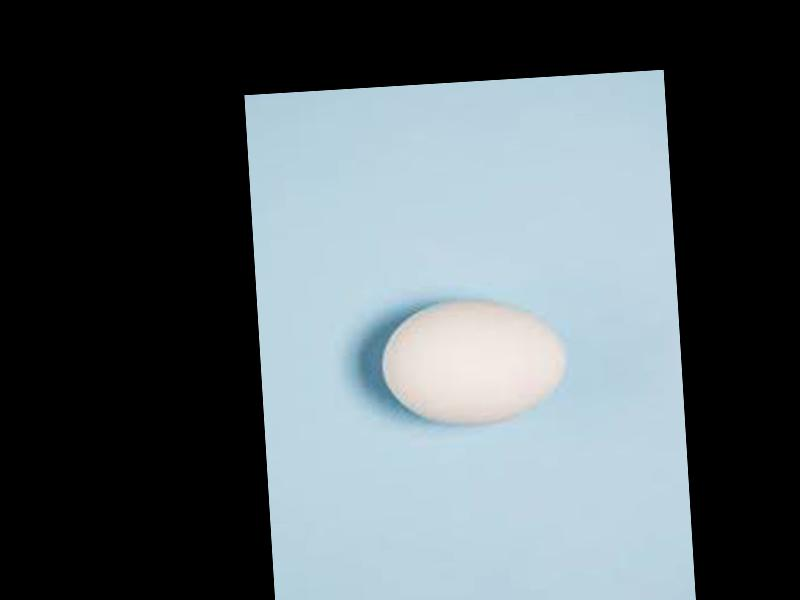Eggs: (378, 295, 571, 431)
